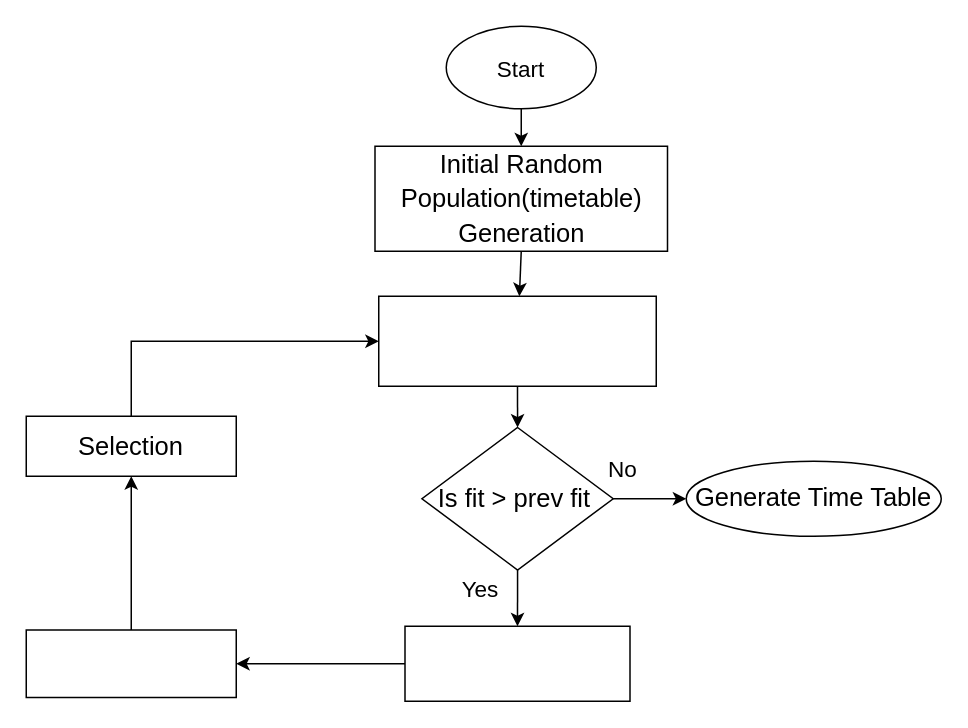
Image size: 968x728. Some labels were removed from this diagram. The centre of each missing label's shape, as x and y in pixels:
Calculation of Fitness: (x=516, y=340)
Crossover: (x=517, y=663)
Mutation: (x=130, y=663)
